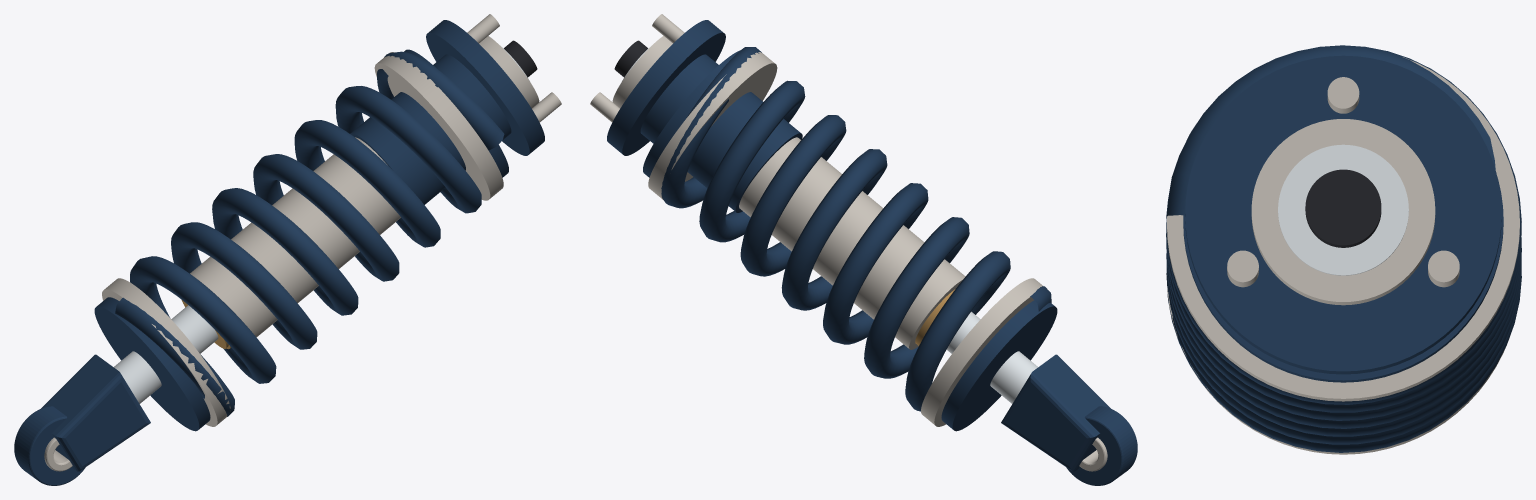
The model's file is robots-48.glb.
The picture shows the model from 3 angles, left to right: view 1: azimuth 30°, elevation 25°; view 2: azimuth 150°, elevation 25°; view 3: azimuth 270°, elevation 25°; orthographic projection. The views are drawn at different scales.
Visible parts, largest first — view 1: spring, damper, seats, eye, top, rod, studs; view 2: spring, damper, seats, eye, top, rod, studs; view 3: top, spring, seats, damper, studs.
Part boxes in pixels (box(x1,y1,x2,y2)): spring: box(115, 51, 504, 416); damper: box(190, 36, 539, 337); seats: box(94, 49, 508, 431); eye: box(14, 354, 150, 485); top: box(426, 20, 544, 155); rod: box(114, 305, 218, 403); studs: box(467, 14, 561, 122); spring: box(661, 47, 1051, 411); damper: box(612, 36, 965, 349); seats: box(643, 50, 1057, 431); eye: box(1001, 354, 1137, 485); top: box(607, 20, 725, 155); rod: box(946, 311, 1037, 403); studs: box(590, 14, 684, 122); top: box(1185, 55, 1501, 374); spring: box(1166, 45, 1521, 452); seats: box(1167, 57, 1519, 454); damper: box(1251, 119, 1435, 305); studs: box(1227, 77, 1459, 287).
Bounding box in the file's own units: 2.46 × 1.64 × 0.7397.
